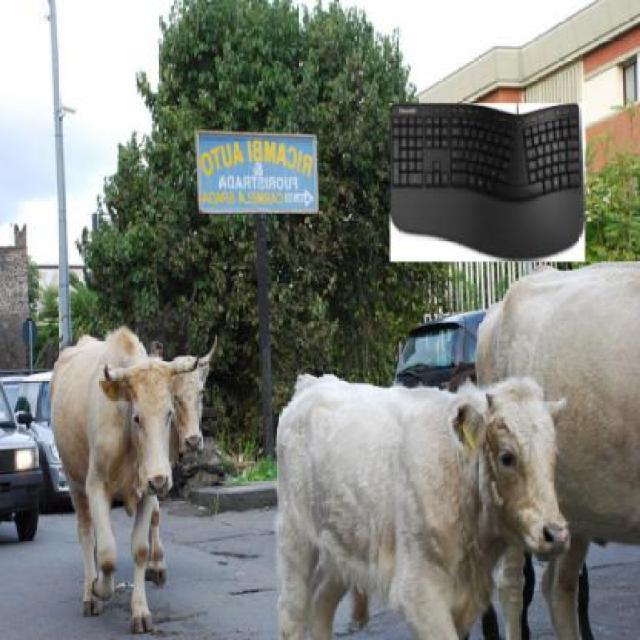keyboard: (387, 109, 586, 262)
